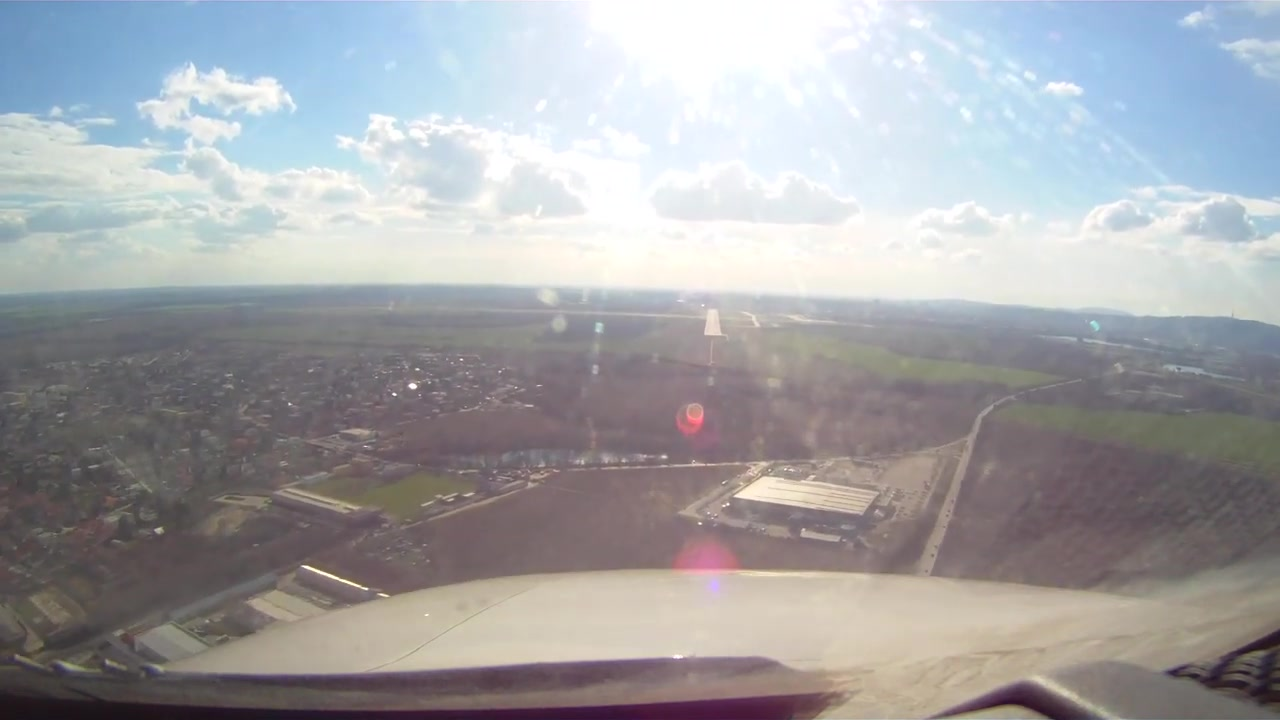runway: (700, 307, 725, 340)
